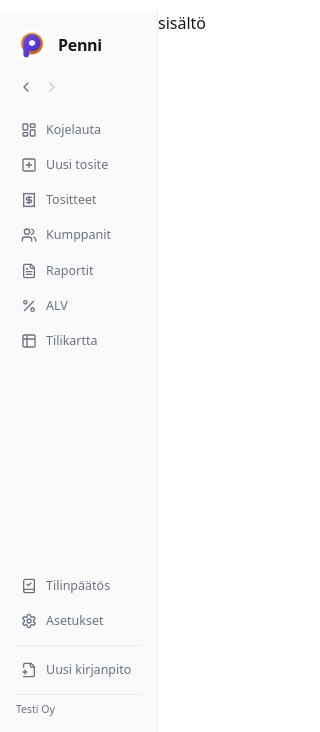
Test: Takaisin / Eteenpäin -napit › kulkevat historiassa kuten selaimen napit
Check: the button named "Eteenpäin" is disabled, box top-left (40, 75), bottom-right (64, 99)
Step 1. Click the button named "Takaisin" → (26, 87), box top-left (14, 75), bottom-right (38, 99)
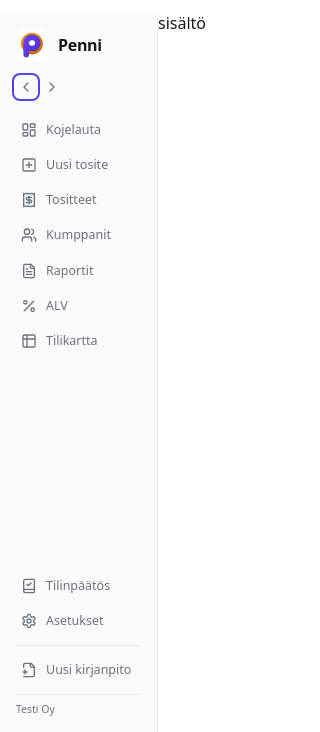
Check: the button named "Eteenpäin" is enabled, box top-left (40, 75), bottom-right (64, 99)
Step 2. Click the button named "Takaisin" → (26, 87), box top-left (14, 75), bottom-right (38, 99)
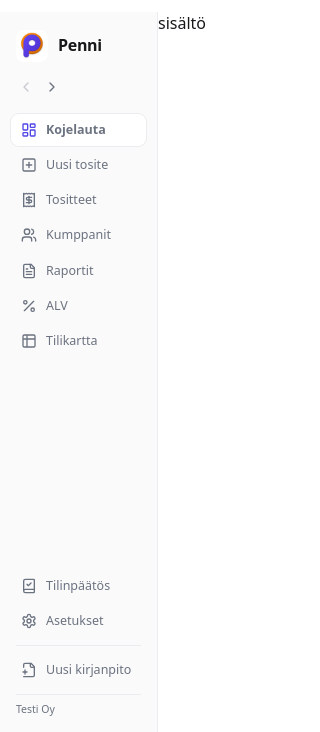
Check: the button named "Takaisin" is disabled, box top-left (14, 75), bottom-right (38, 99)
Step 3. Click the button named "Eteenpäin" → (52, 87), box top-left (40, 75), bottom-right (64, 99)
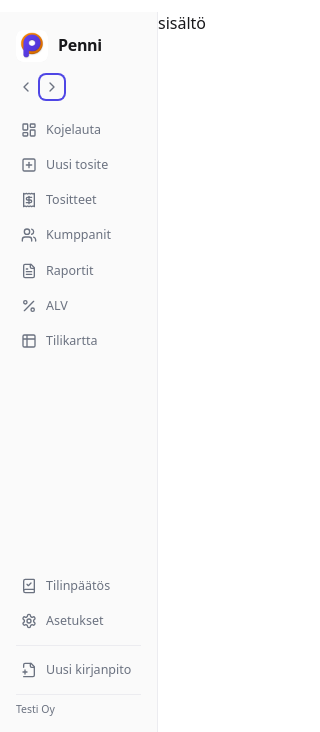
Check: the button named "Eteenpäin" is enabled, box top-left (40, 75), bottom-right (64, 99)
Check: the button named "Takaisin" is enabled, box top-left (14, 75), bottom-right (38, 99)
